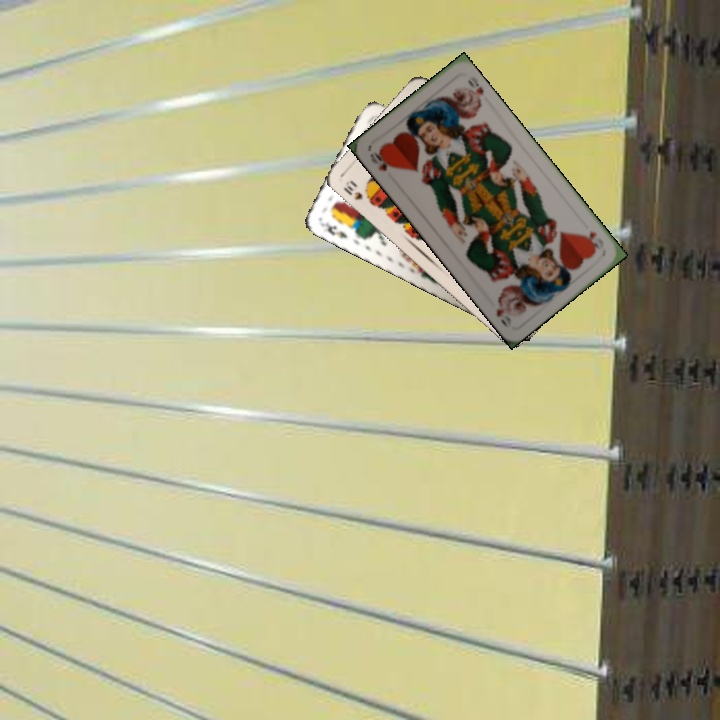EK: (317, 218, 350, 241)
HO: (366, 146, 396, 174), (579, 226, 605, 253)
S10: (339, 176, 374, 206)
